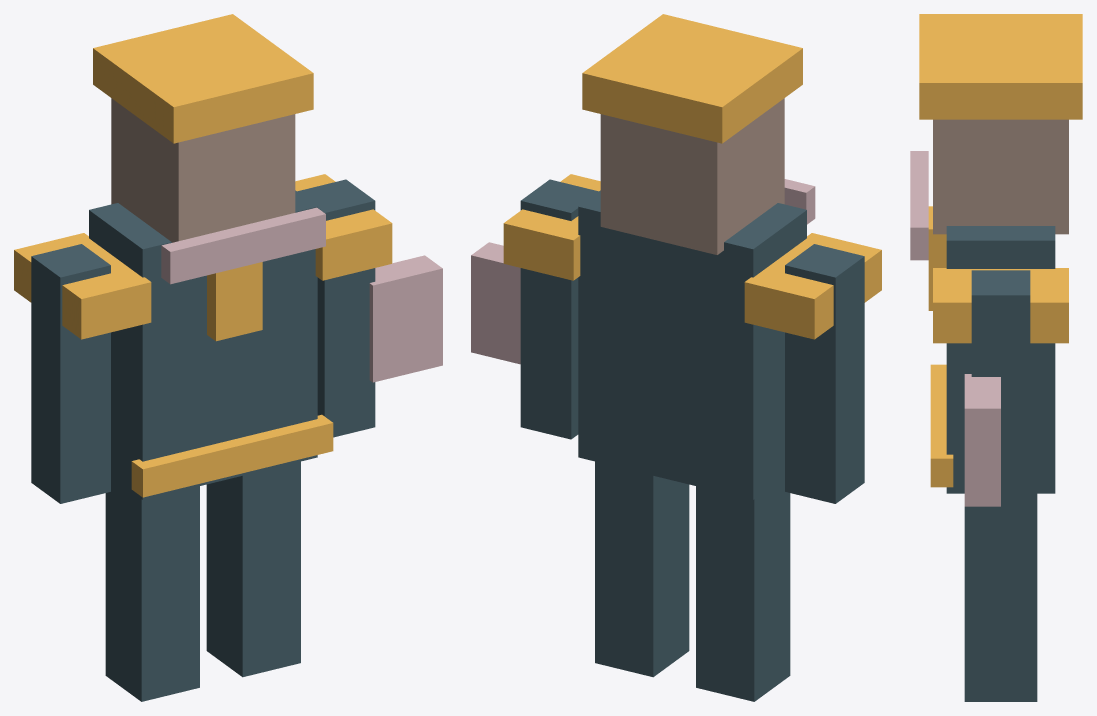
Rendered from 12_ossa_nullborne_custodian_under_platform.glb.
3 views of the same model, side by side, from view 1: azimuth 30°, elevation 25°; view 2: azimuth 150°, elevation 25°; view 3: azimuth 270°, elevation 25° (orthographic).
Parts seen in each view (by area): view 1: Ossa Nullborne, Custodian under Platform; view 2: Ossa Nullborne, Custodian under Platform; view 3: Ossa Nullborne, Custodian under Platform.
Boxes of the visible parts, x1,y1,x2,y2 form: Ossa Nullborne, Custodian under Platform: (14,14,442,701); Ossa Nullborne, Custodian under Platform: (471,14,881,701); Ossa Nullborne, Custodian under Platform: (910,14,1082,701).
Size of the model in its own units: 0.9145 by 1.4 by 0.3564.
